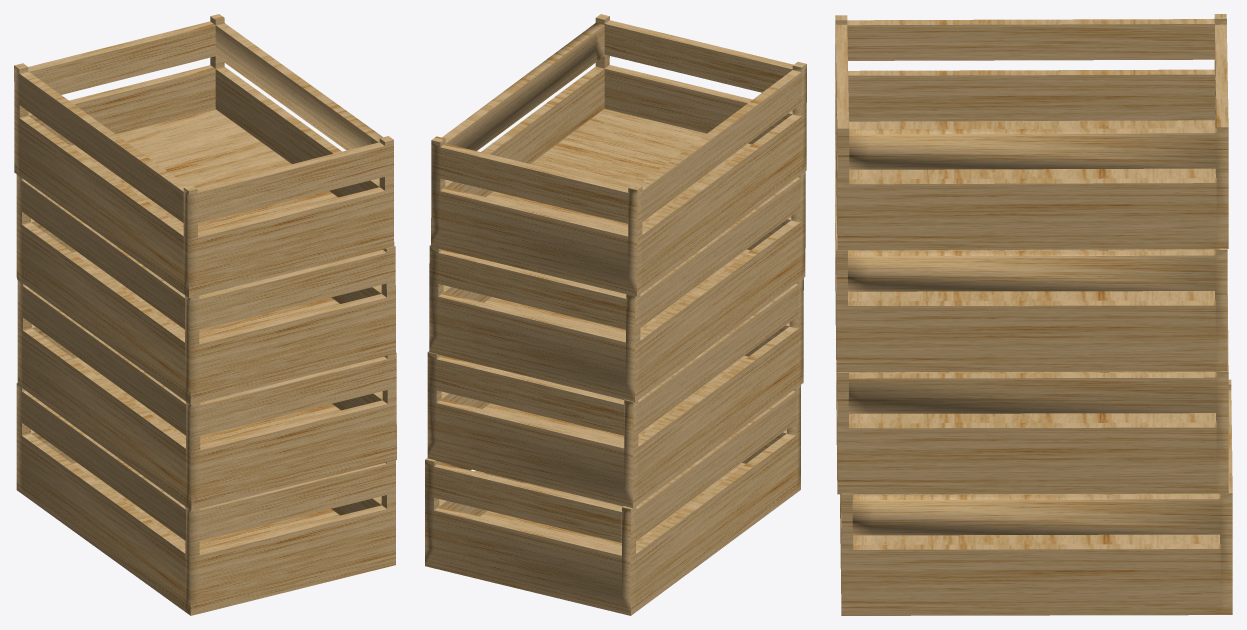
File: One_Stack_Crates.fbx
3 renders of one model, left to right at view 1: azimuth 30°, elevation 25°; view 2: azimuth 150°, elevation 25°; view 3: azimuth 270°, elevation 25°, orthographic. The views are drawn at different scales.
Visible parts, largest first — view 1: One_Stack_Crates; view 2: One_Stack_Crates; view 3: One_Stack_Crates.
Part boxes in pixels (x1,y1,x2,y2): One_Stack_Crates: [14, 14, 396, 615]; One_Stack_Crates: [425, 14, 806, 615]; One_Stack_Crates: [835, 14, 1232, 615].
Size of the model in its own units: 39 by 75.14 by 55.79.
Materials: 1 (1 with a texture image).
